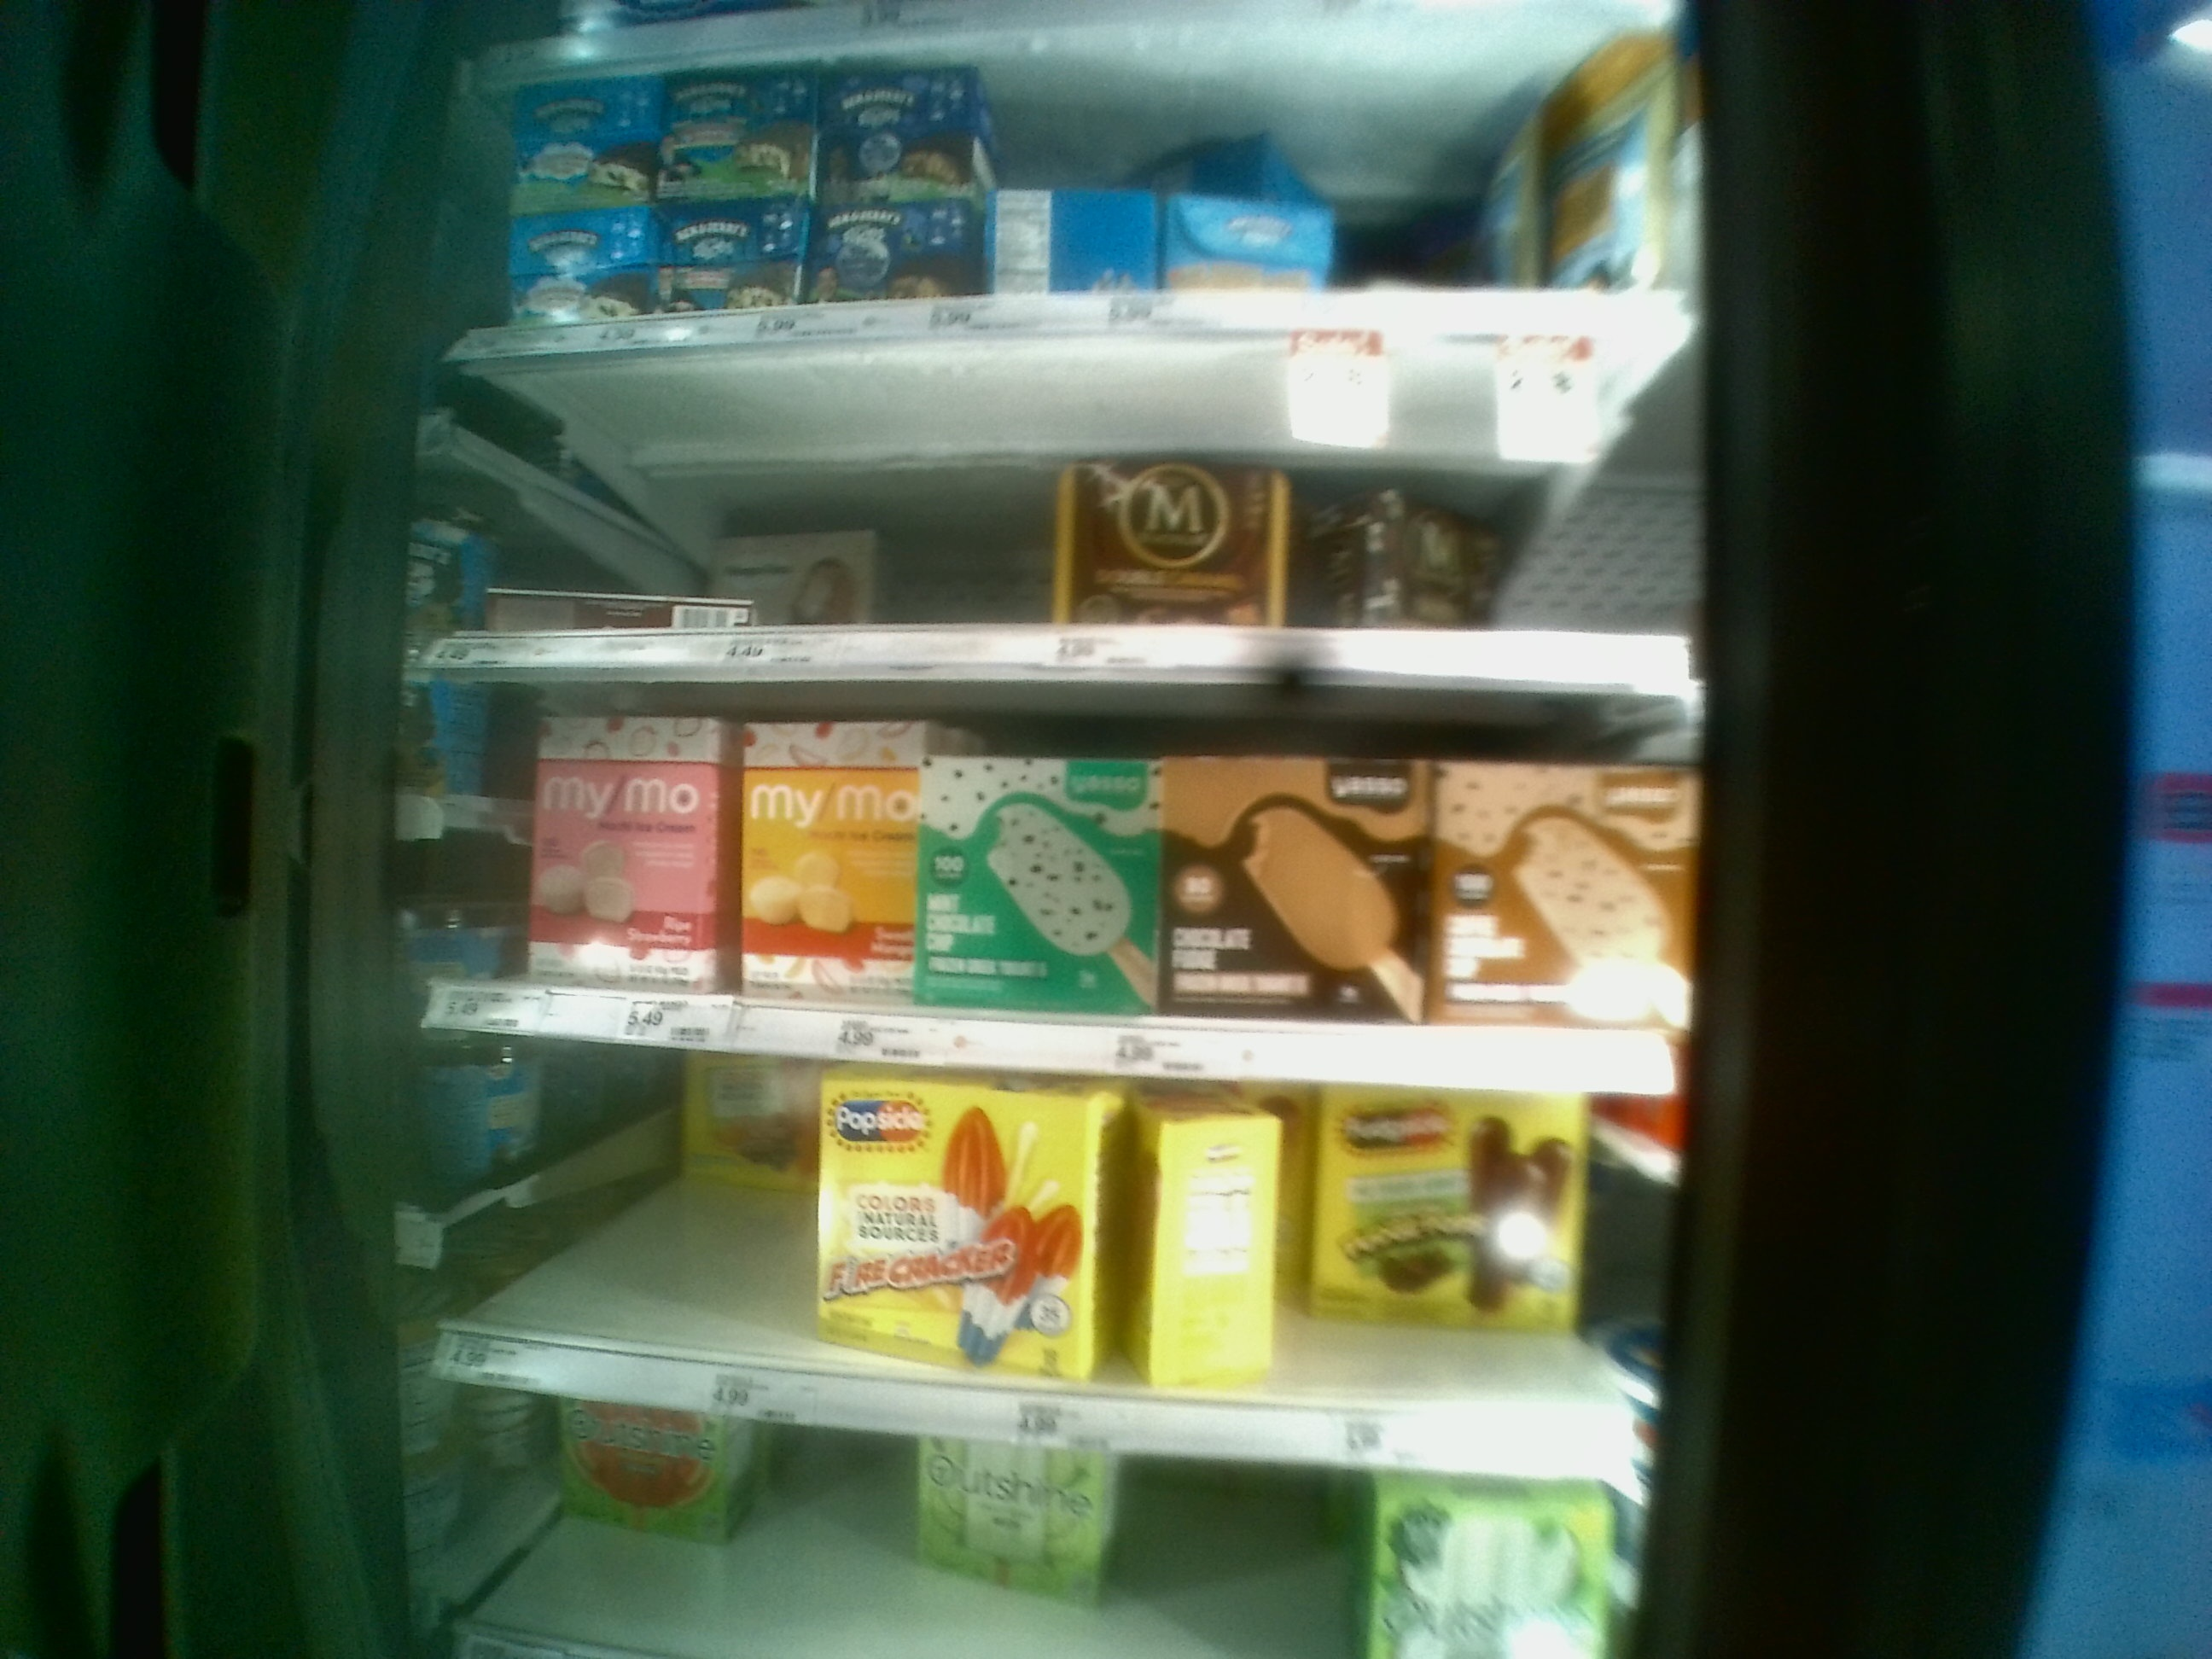ice-cream-shelf: (409, 681, 1689, 1086), (416, 352, 1703, 678)
